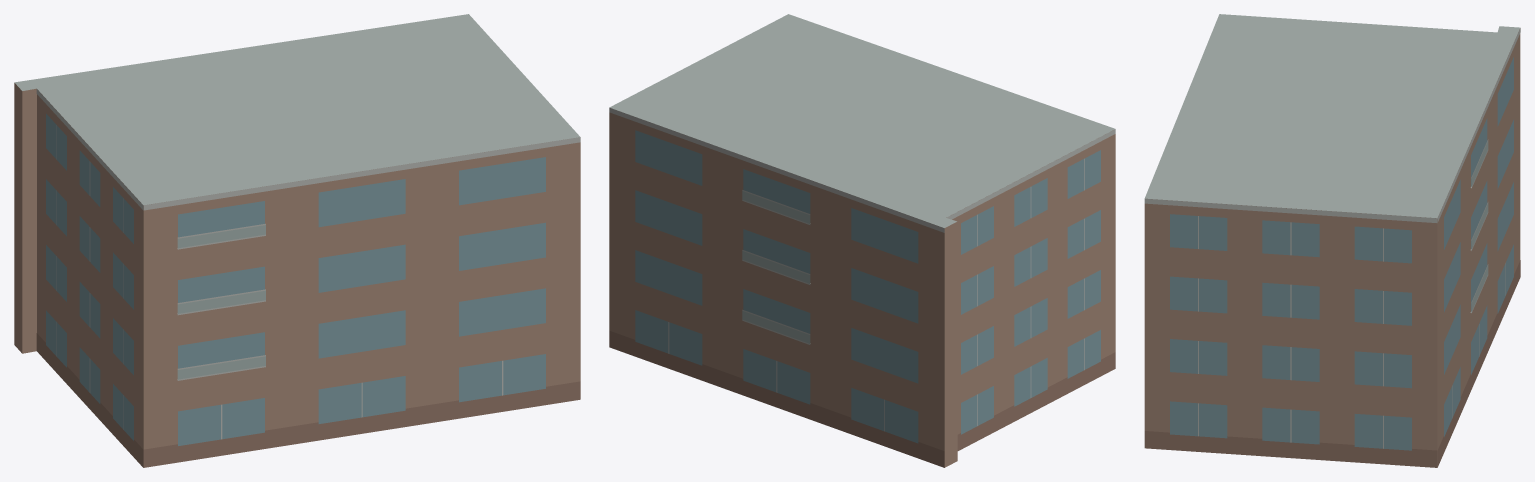
The model's file is survey-upis-32804095.glb.
3 views of the same model, side by side, from view 1: azimuth 30°, elevation 25°; view 2: azimuth 150°, elevation 25°; view 3: azimuth 270°, elevation 25° (orthographic). The views are drawn at different scales.
Parts seen in each view (by area): view 1: survey-upis-32804095.tmp; view 2: survey-upis-32804095.tmp; view 3: survey-upis-32804095.tmp.
Boxes of the visible parts, left/top/right/bottom form: survey-upis-32804095.tmp: left=14, top=14, right=580, bottom=467; survey-upis-32804095.tmp: left=609, top=14, right=1115, bottom=467; survey-upis-32804095.tmp: left=1144, top=14, right=1520, bottom=467.
Bounding box in the file's own units: 21.41 × 12.2 × 16.66.
